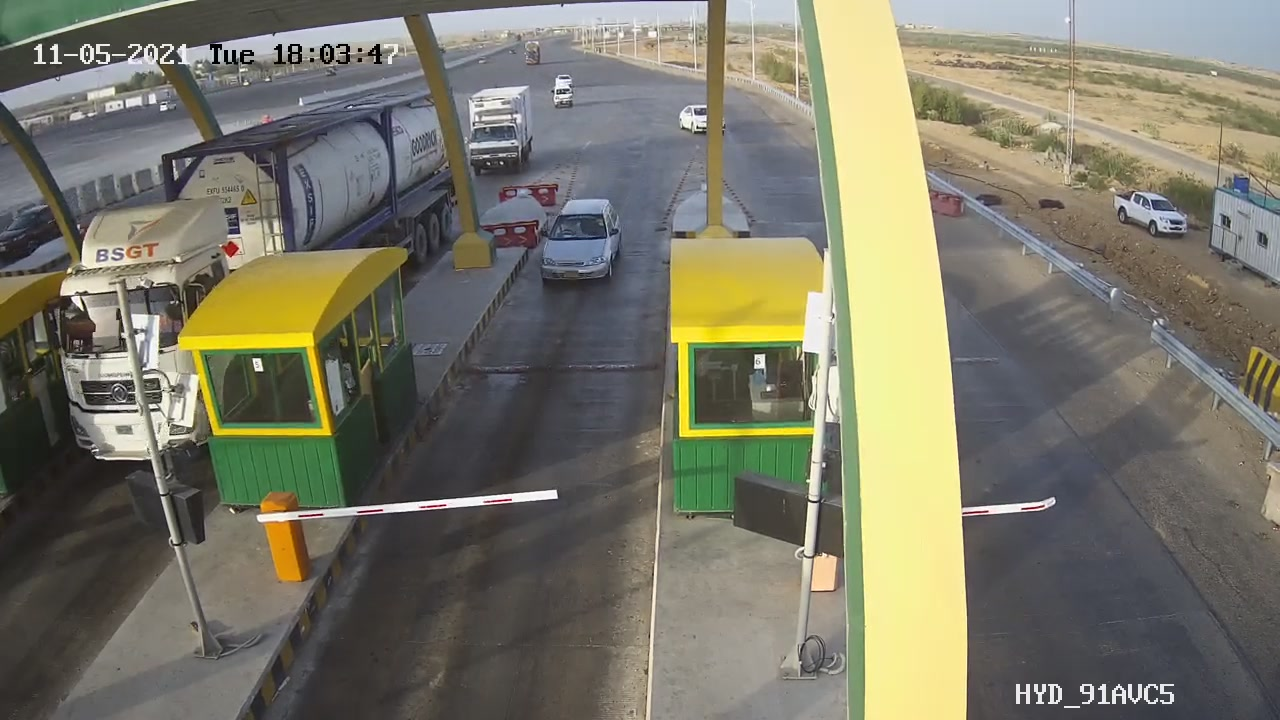F1: (524, 183, 639, 308)
